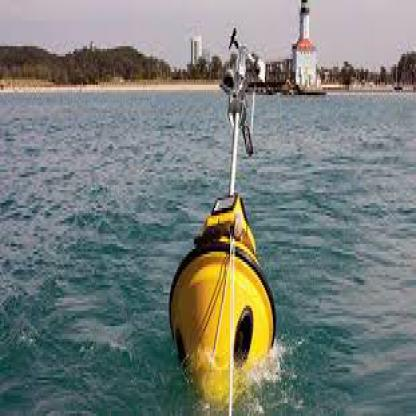buoy: (164, 21, 284, 414)
